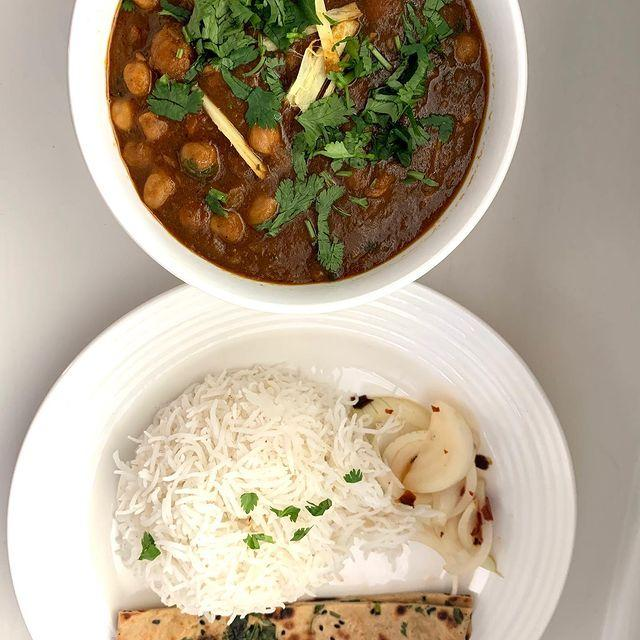Chole: (106, 4, 286, 255)
